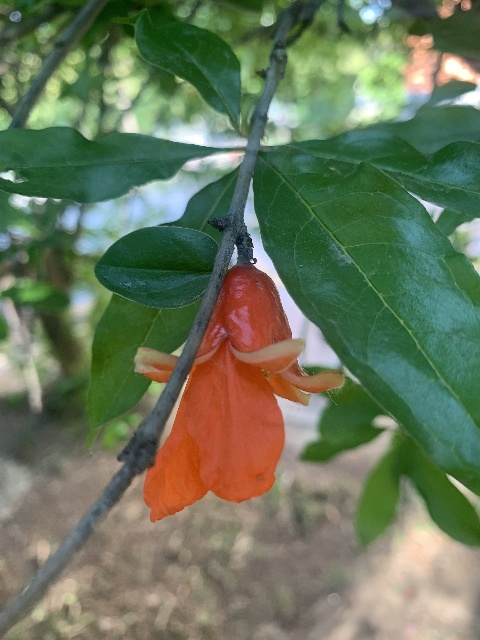flower: (134, 262, 344, 524)
